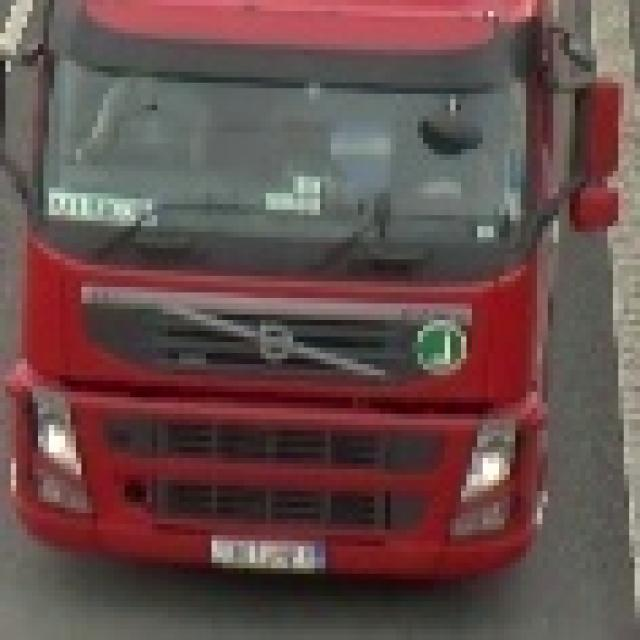truck: (1, 1, 619, 580)
